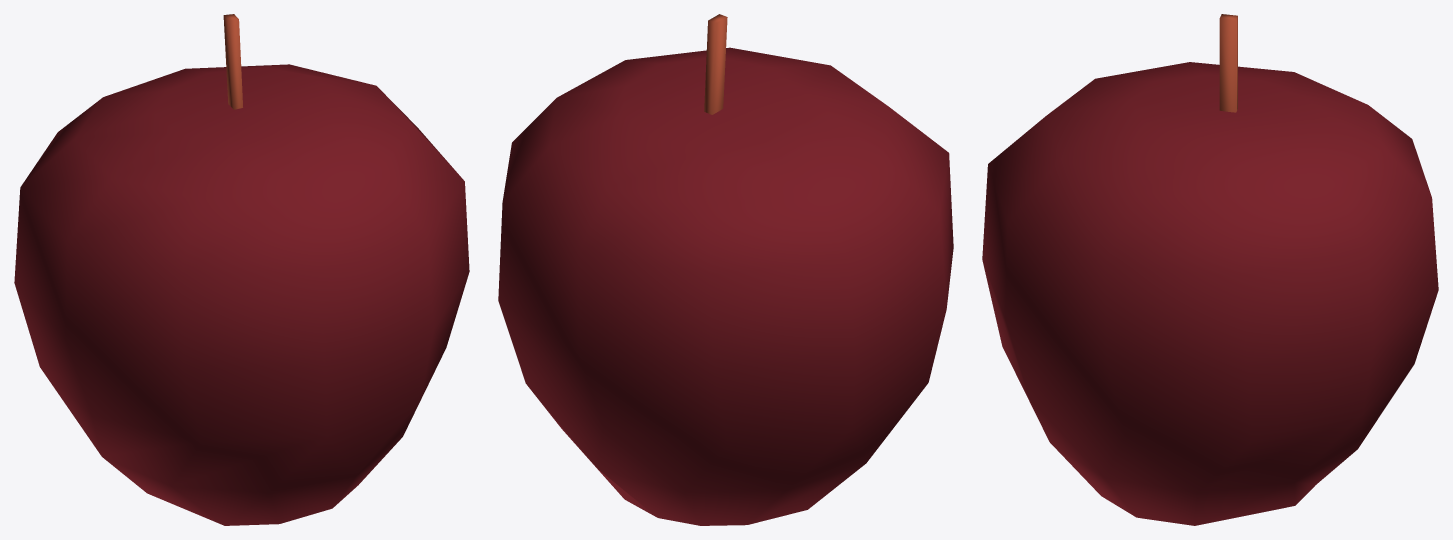
The model's file is apple.fbx.
3 renders of one model, left to right at view 1: azimuth 30°, elevation 25°; view 2: azimuth 150°, elevation 25°; view 3: azimuth 270°, elevation 25°, orthographic. The views are drawn at different scales.
Visible parts, largest first — view 1: apple; view 2: apple; view 3: apple.
Boxes of the visible parts, <box> form: apple: <box>14,14,469,525</box>; apple: <box>498,14,953,525</box>; apple: <box>982,14,1438,525</box>.
Bounding box in the file's own units: 2.66 × 2.66 × 2.97.
